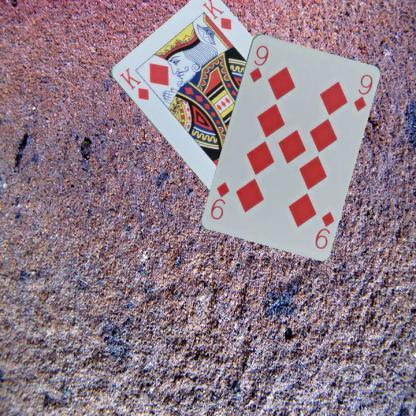9d: (312, 208, 336, 250), (246, 42, 270, 83)
Kd: (116, 64, 150, 102)
